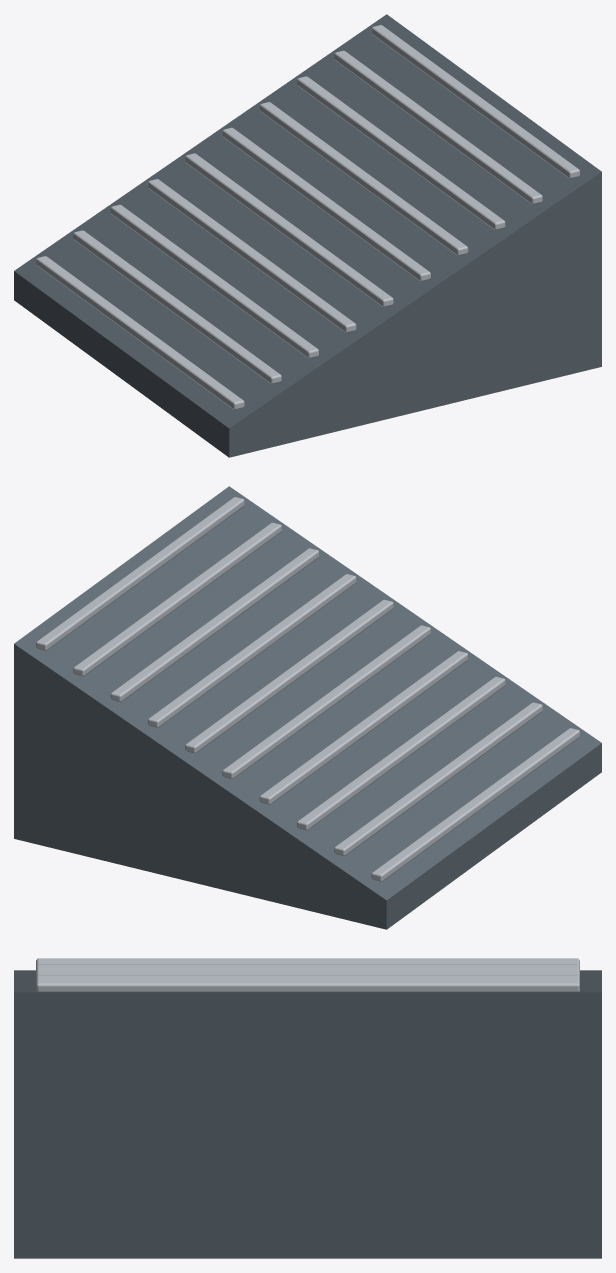
Rendered from arena-shooter-map-kit-ramp-short-6e69cc7a__23090.glb.
The picture shows the model from 3 angles, top to bottom: view 1: azimuth 30°, elevation 25°; view 2: azimuth 150°, elevation 25°; view 3: azimuth 270°, elevation 25°; orthographic projection. The views are drawn at different scales.
Visible parts, largest first — view 1: ramp-short; view 2: ramp-short; view 3: ramp-short.
Boxes of the visible parts, left/top/right/bottom form: ramp-short: left=14, top=14, right=601, bottom=457; ramp-short: left=14, top=486, right=601, bottom=929; ramp-short: left=14, top=958, right=601, bottom=1258.
Bounding box in the file's own units: 2 × 1 × 2.
